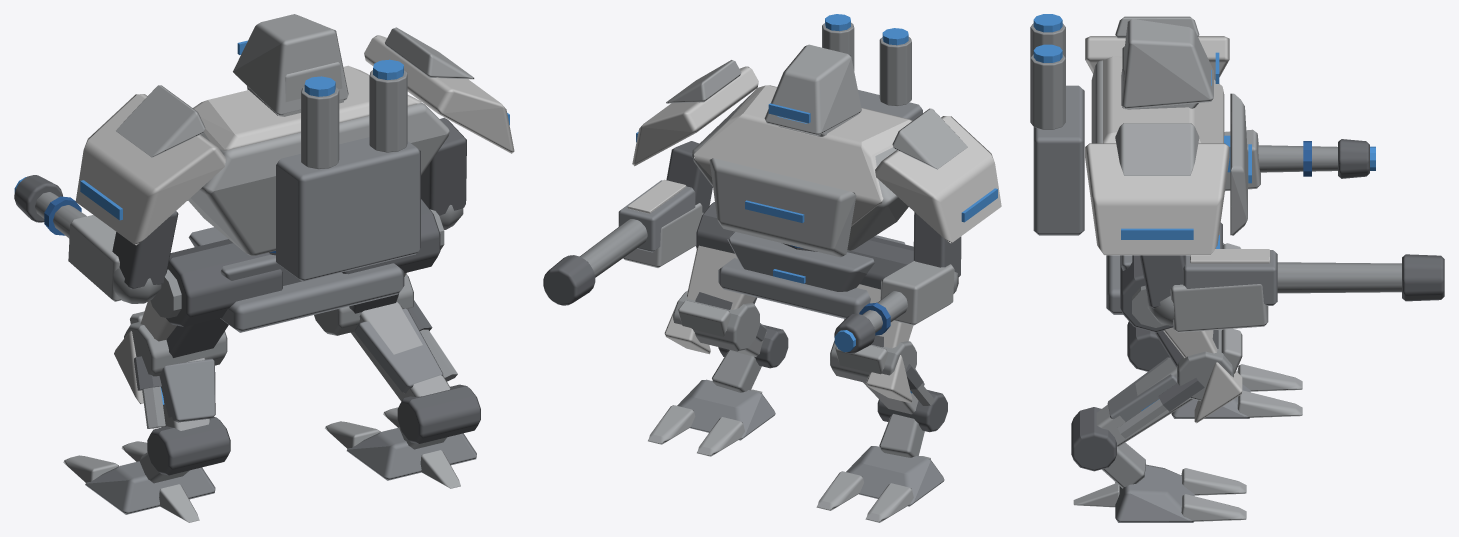
The model's file is lattice_heavy_bot.glb.
3 renders of one model, left to right at view 1: azimuth 30°, elevation 25°; view 2: azimuth 150°, elevation 25°; view 3: azimuth 270°, elevation 25°, orthographic. The views are drawn at different scales.
Parts seen in each view (by area): view 1: Turret, Body; view 2: Turret, Body; view 3: Turret, Body.
Part boxes in pixels (left/top/right/bottom): Turret: left=14, top=14, right=514, bottom=303; Body: left=63, top=199, right=480, bottom=522; Turret: left=543, top=14, right=1001, bottom=353; Body: left=648, top=202, right=947, bottom=522; Turret: left=1030, top=14, right=1444, bottom=332; Body: left=1071, top=222, right=1302, bottom=522.
Size of the model in its own units: 1.14 by 1.28 by 1.14.
